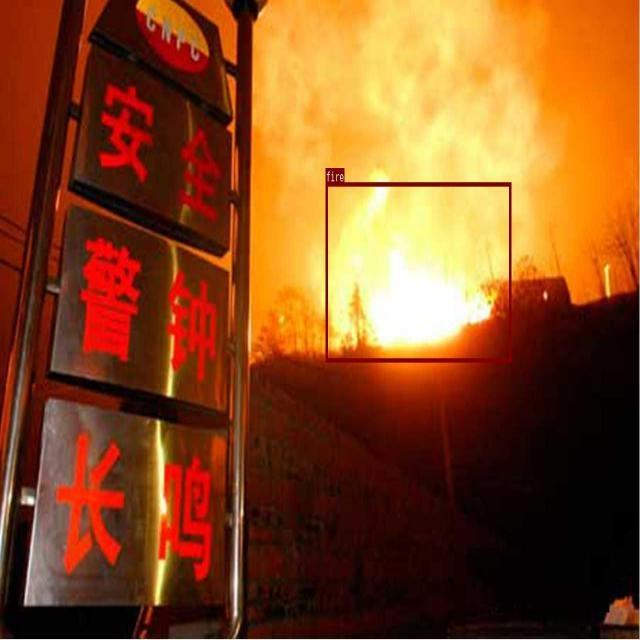fire: (325, 182, 511, 362)
